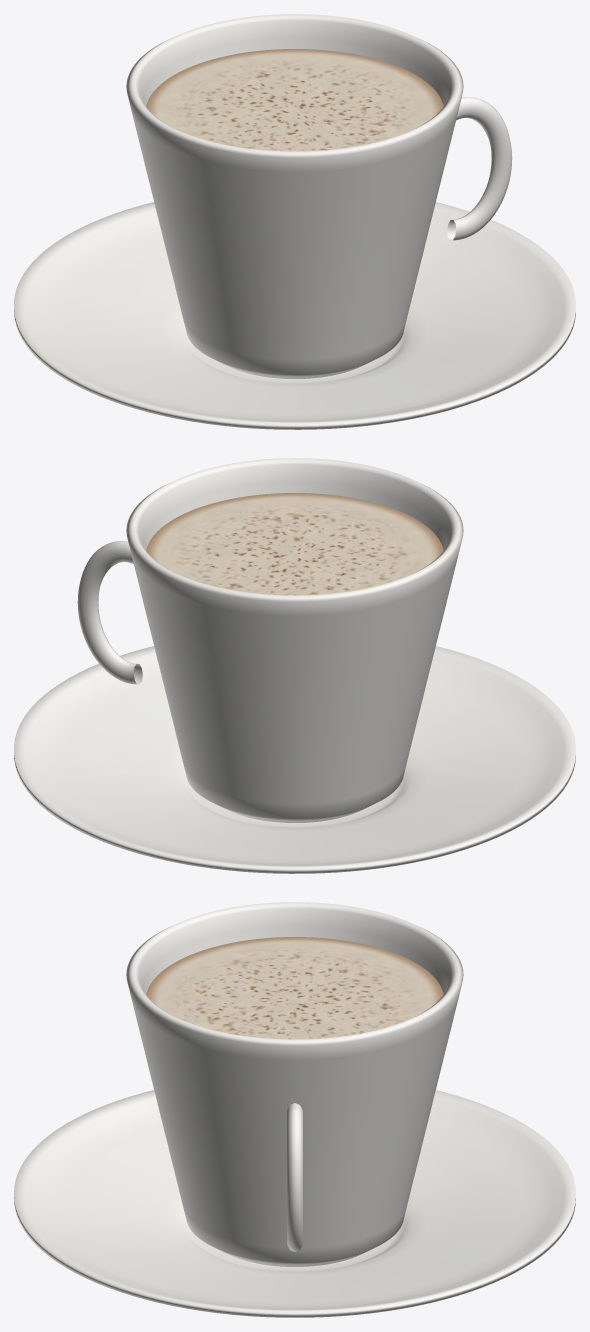
File: chai-latte.glb
The picture shows the model from 3 angles, top to bottom: view 1: azimuth 30°, elevation 25°; view 2: azimuth 150°, elevation 25°; view 3: azimuth 270°, elevation 25°; orthographic projection.
Visible parts, largest first — view 1: ceramic, satin; view 2: ceramic, satin; view 3: ceramic, satin.
Boxes of the visible parts, x1,y1,x2,y2 form: ceramic: (14,14,575,429); satin: (146,49,443,151); ceramic: (14,458,575,873); satin: (146,493,443,595); ceramic: (14,902,575,1317); satin: (146,937,443,1039).
Bounding box in the file's own units: 0.16 × 0.0852 × 0.16.
Materials: 2 (2 with a texture image).
